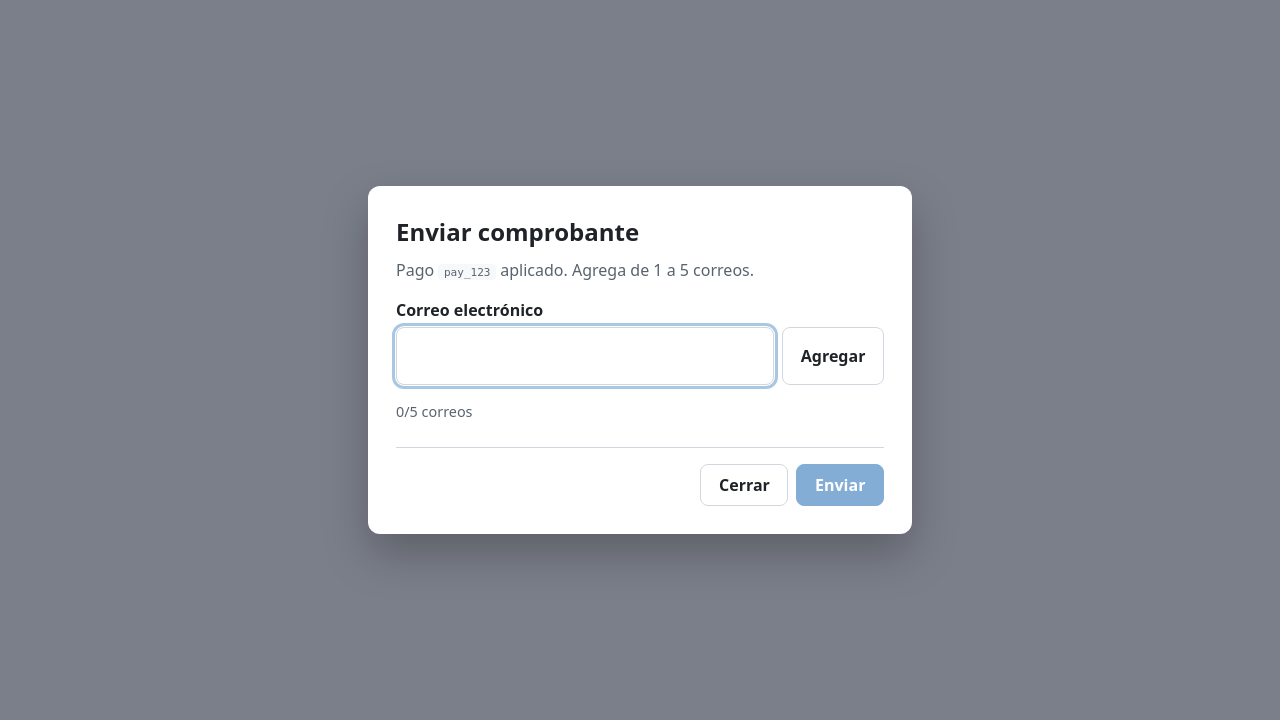
ReceiptModal: validación de correos › permite quitar un correo
Type "ana@example.com" into the field labelled "Correo electrónico".
click(585, 356); type("ana@example.com")  # box [396,328,774,386]
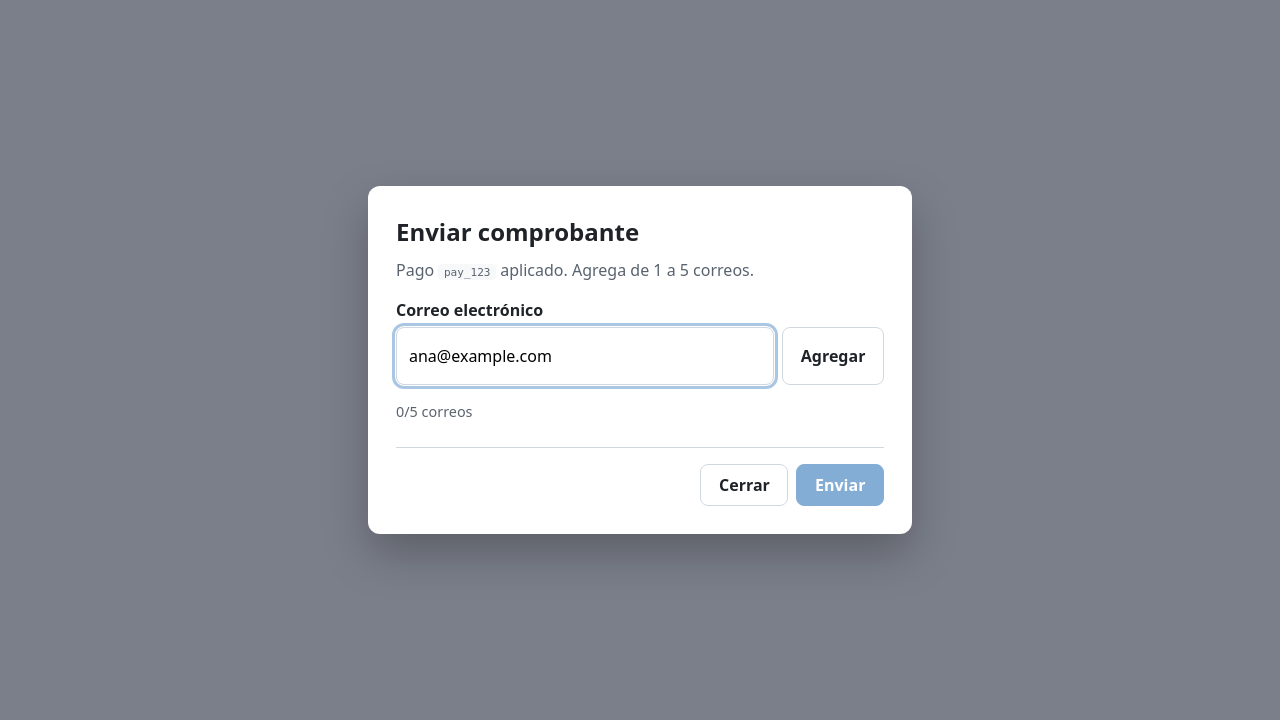
Click the button "Agregar".
click(833, 356)  # box [782,328,884,386]
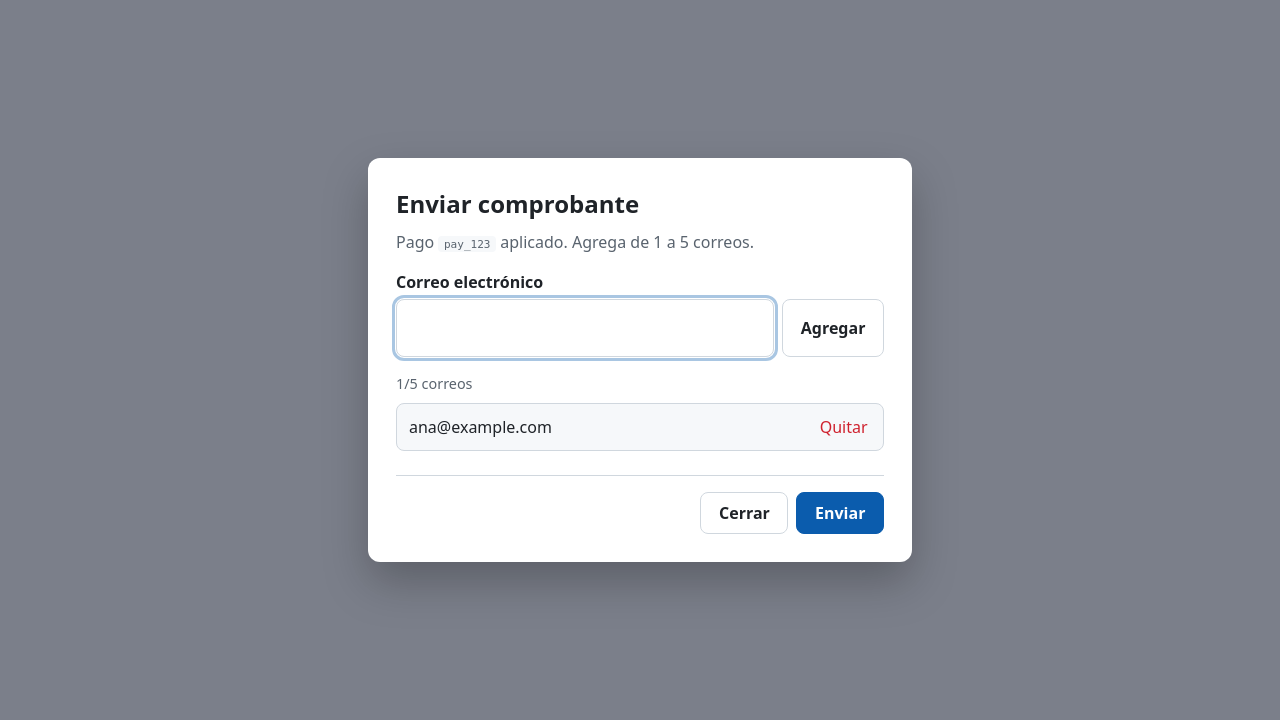
Click the button with aria-label "Quitar ana@example.com".
click(844, 427)  # box [811,410,877,444]
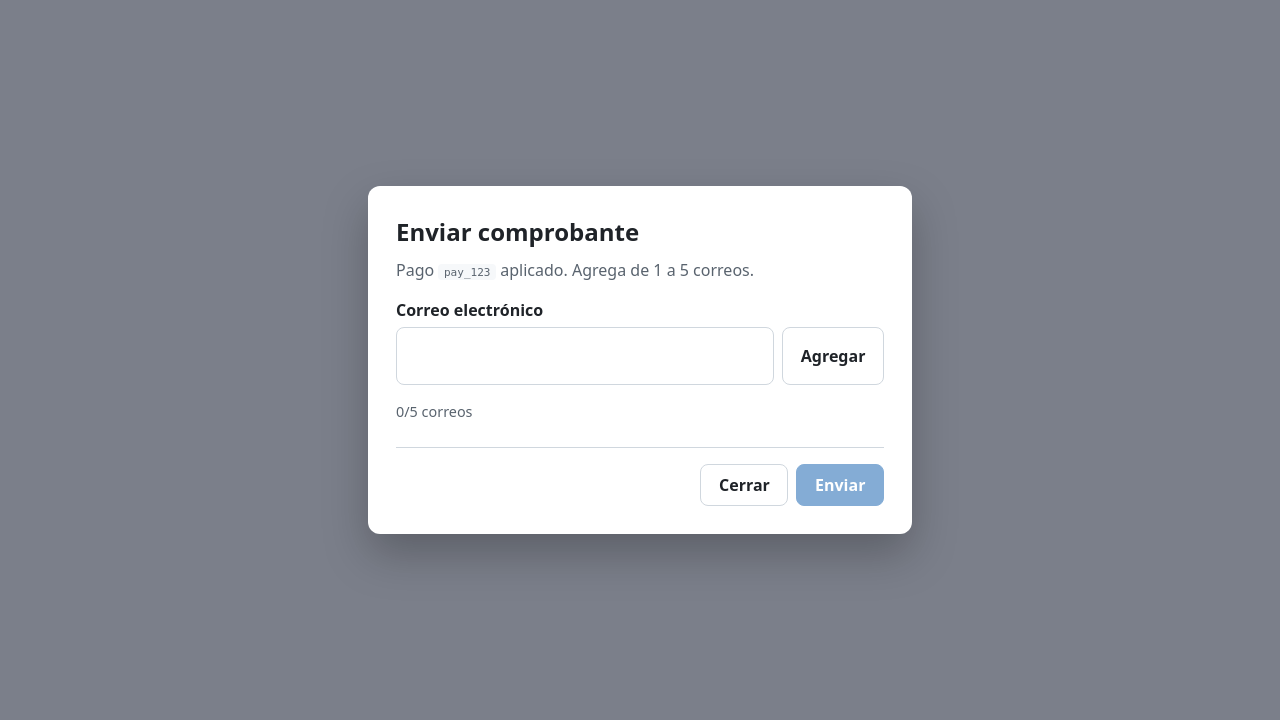
Result: no list items are shown
